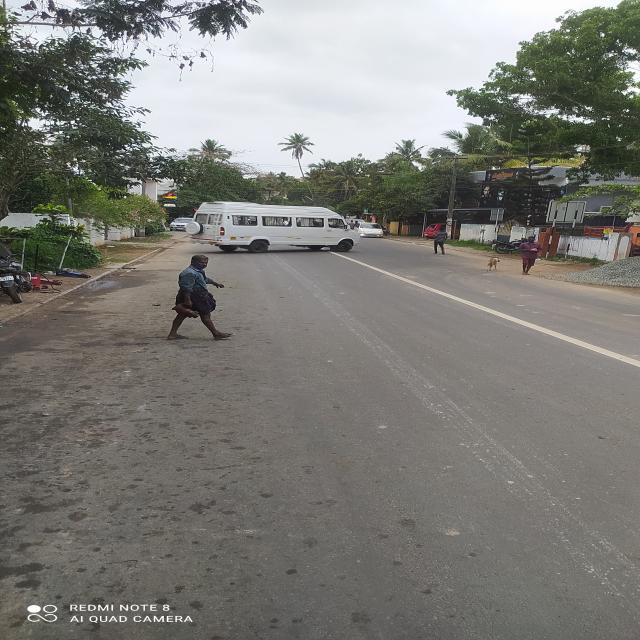Bus: (163, 202, 377, 257)
